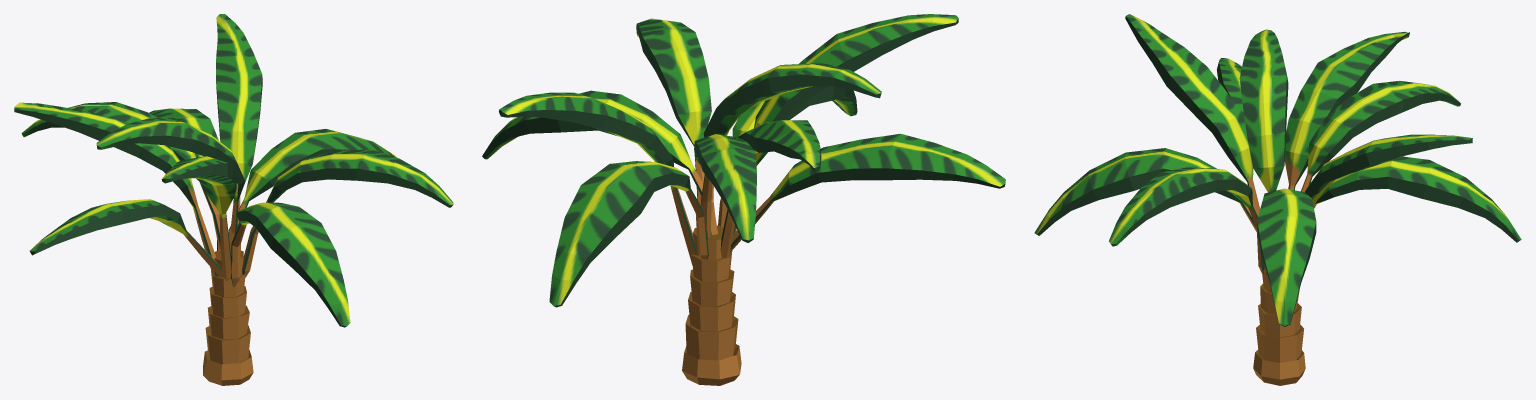
Rendered from palm_01.fbx.
3 views of the same model, side by side, from view 1: azimuth 30°, elevation 25°; view 2: azimuth 150°, elevation 25°; view 3: azimuth 270°, elevation 25° (orthographic). The views are drawn at different scales.
Visible parts, largest first — view 1: Cylinder.001; view 2: Cylinder.001; view 3: Cylinder.001.
Part boxes in pixels (x1,y1,x2,y2): Cylinder.001: (14,14,453,385); Cylinder.001: (482,14,1005,385); Cylinder.001: (1034,14,1521,385).
Size of the model in its own units: 8.14 by 8 by 5.33.
